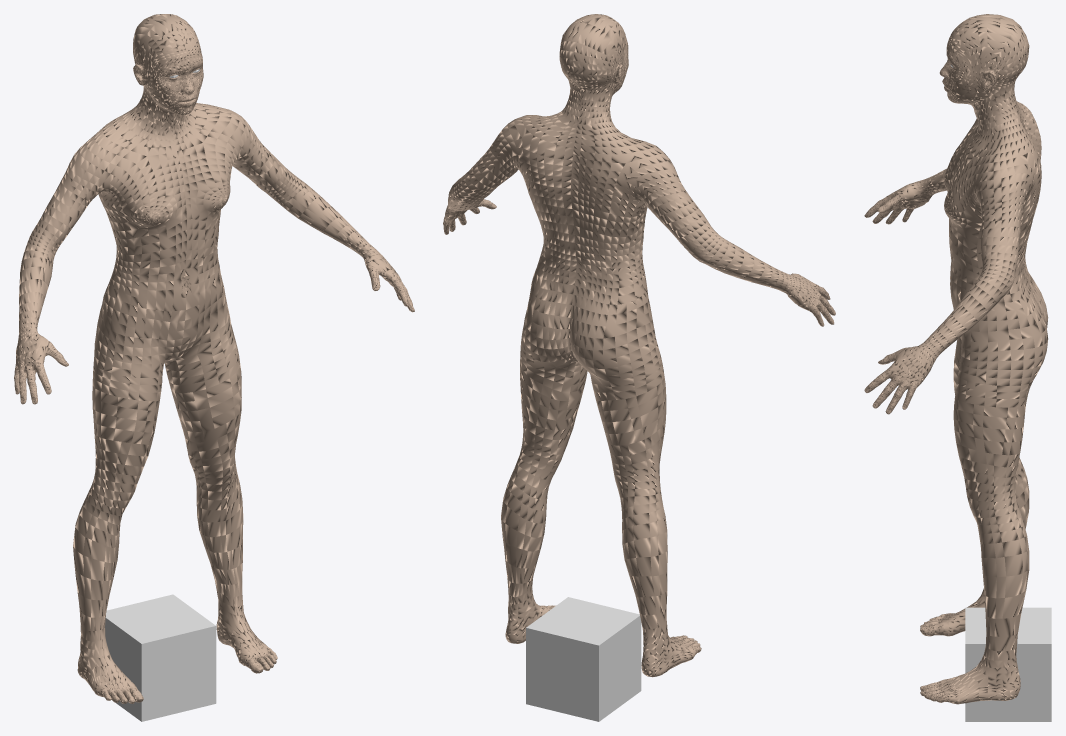
Rendered from female.glb.
The picture shows the model from 3 angles, left to right: view 1: azimuth 30°, elevation 25°; view 2: azimuth 150°, elevation 25°; view 3: azimuth 270°, elevation 25°; orthographic projection. The views are drawn at different scales.
Visible parts, largest first — view 1: testmodelMesh, Cube; view 2: testmodelMesh, Cube; view 3: testmodelMesh, Cube.
Boxes of the visible parts, left/top/right/bottom form: testmodelMesh: left=14, top=14, right=414, bottom=703; Cube: left=105, top=594, right=216, bottom=721; testmodelMesh: left=443, top=14, right=835, bottom=677; Cube: left=526, top=597, right=641, bottom=721; testmodelMesh: left=864, top=14, right=1048, bottom=704; Cube: left=965, top=607, right=1051, bottom=721.
Size of the model in its own units: 10.52 by 17.6 by 4.35.
3 materials, 1 textured.
